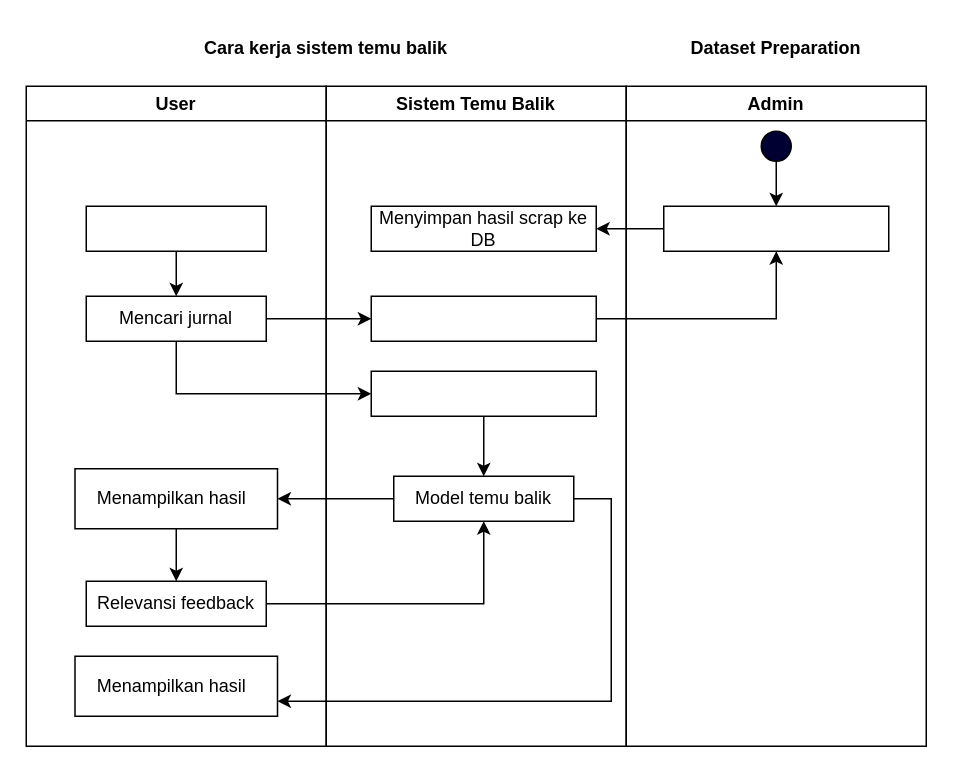
The diagram is 953 pixels wide and 773 high, and some of its shapes have lost their labels. Each missing label, with the centre of its shape:
"Data ditemukan di database" goes at point (483, 393).
"Data tidak ditemukan" goes at point (483, 318).
"Membuka Halaman Utama" goes at point (175, 228).
"Scraping Jurnal by Keyword" goes at point (775, 228).
